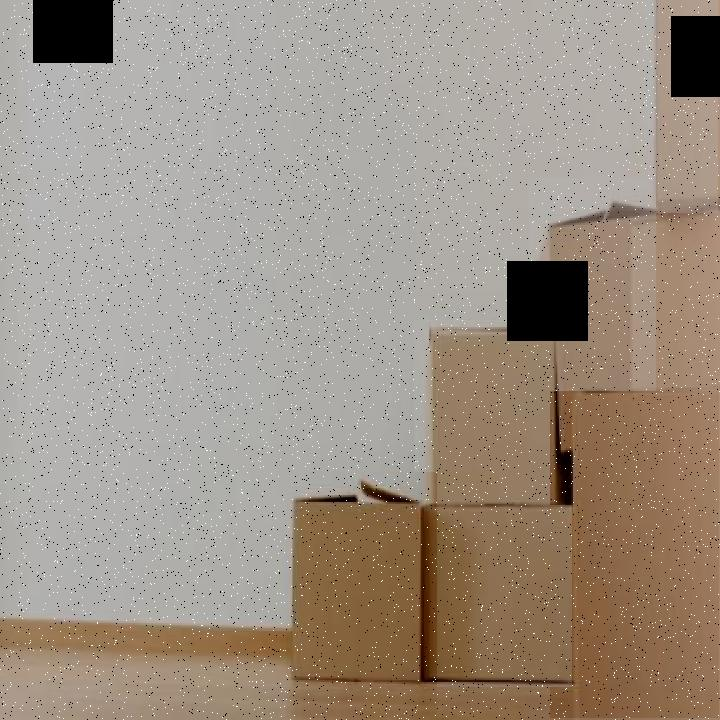box: (550, 391, 719, 718), (530, 178, 658, 476), (286, 472, 437, 718), (414, 320, 574, 532), (418, 505, 572, 687), (627, 224, 718, 394), (648, 0, 718, 213)
